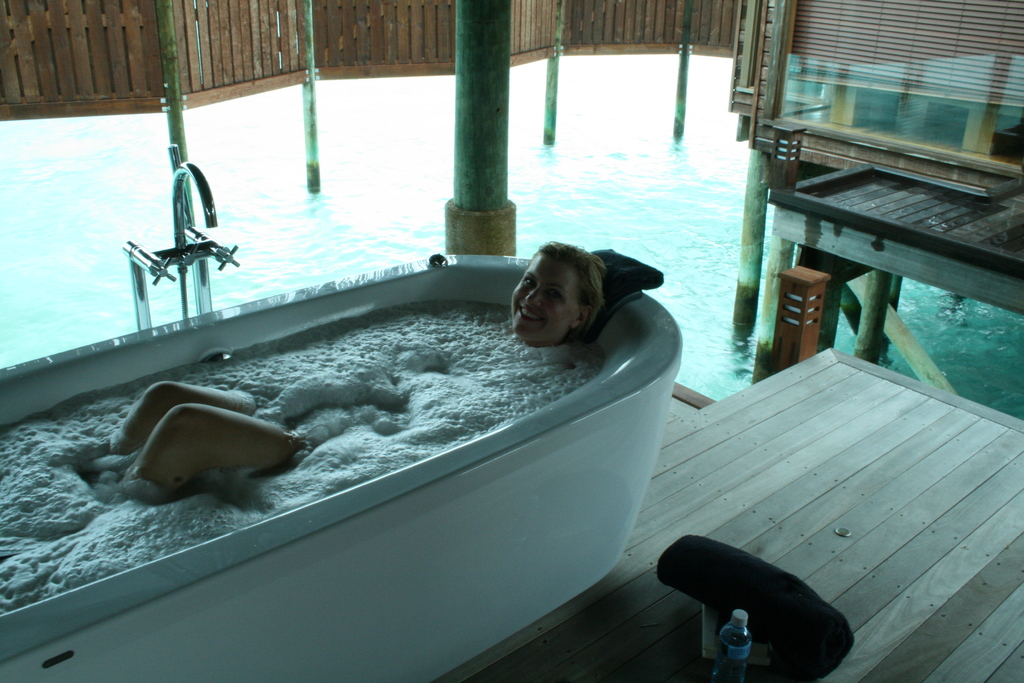Person: (107, 240, 609, 496)
